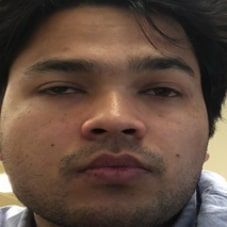drowsy: (21, 42, 201, 192)
